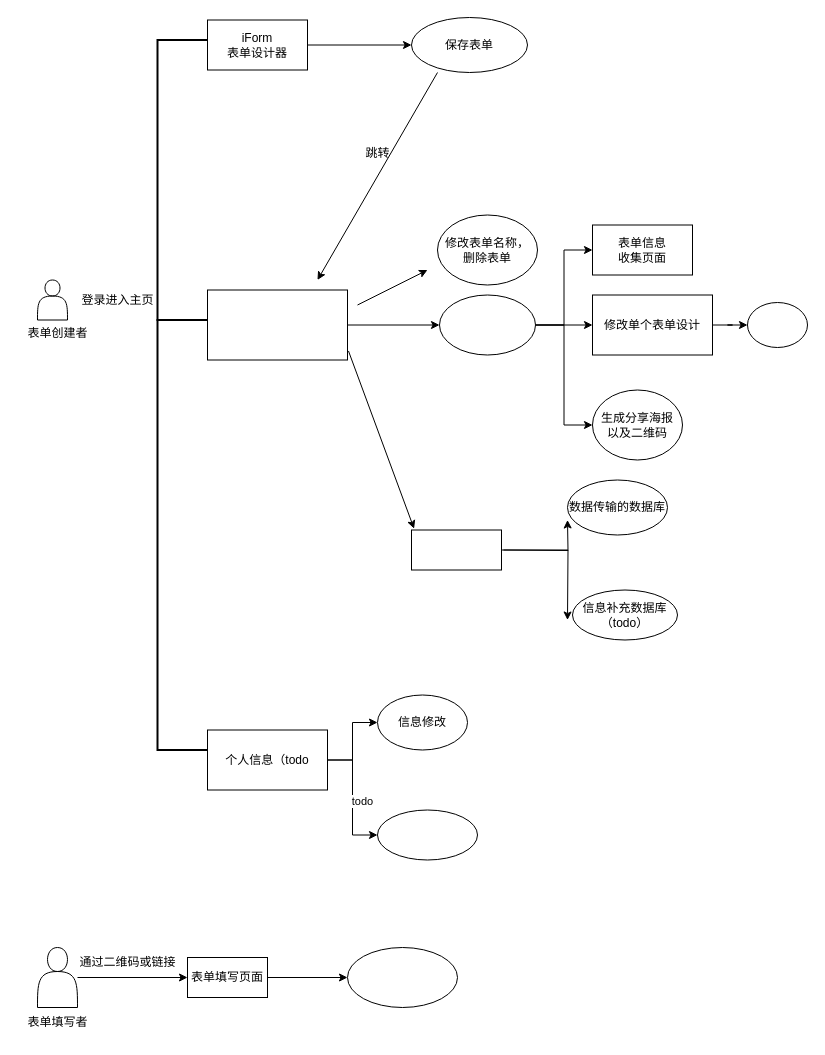
Image size: 825x1055. Some labels were removed from this diagram. The centre of each missing label's shape, as x and y in pixels:
"个人海报 名片分享" belongs at point 427,834.
"保存修改" belongs at point 777,325.
"工作台 （ 查看用户自己 创建 的表单列表）" belongs at point 277,324.
"数据提交" belongs at point 402,977.
"表单发布" belongs at point 487,324.
"配置数据库" belongs at point 456,549.
